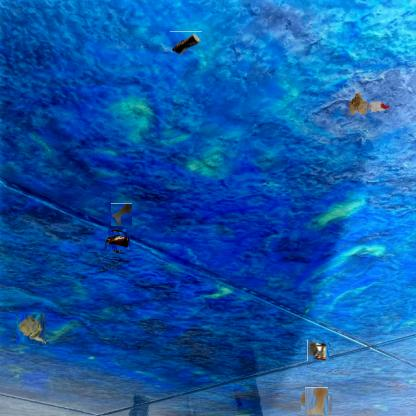dirty: (16, 314, 46, 344), (170, 31, 202, 56), (346, 90, 372, 118), (106, 230, 128, 252), (307, 340, 329, 361), (368, 99, 390, 113)
liquid: (302, 389, 330, 416), (110, 203, 132, 226)
